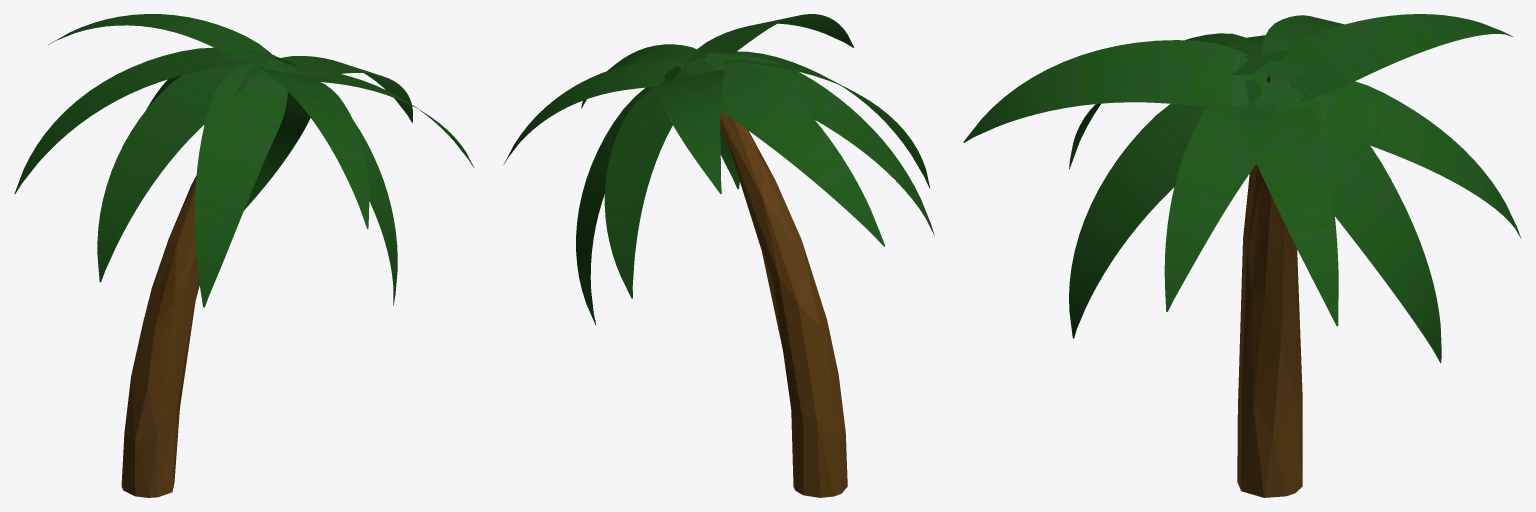
Rendered from palm v2.fbx.
3 renders of one model, left to right at view 1: azimuth 30°, elevation 25°; view 2: azimuth 150°, elevation 25°; view 3: azimuth 270°, elevation 25°, orthographic. The views are drawn at different scales.
Parts seen in each view (by area): view 1: Cylinder, Plane_7, Plane_8, Plane_9, Plane_6, Plane_10, Plane_2, Plane_5, Plane_3, Plane_4; view 2: Cylinder, Plane_9, Plane, Plane_8, Plane_10, Plane_2, Plane_3, Plane_6, Plane_7, Plane_4; view 3: Cylinder, Plane_6, Plane_2, Plane_5, Plane_3, Plane_4, Plane, Plane_10, Plane_9, Plane_7.
Part boxes in pixels (box(x1,y1,x2,y2)): Cylinder: box(121, 57, 273, 497); Plane_7: box(194, 58, 287, 307); Plane_8: box(97, 52, 269, 282); Plane_9: box(14, 47, 276, 193); Plane_6: box(258, 66, 369, 229); Plane_10: box(48, 14, 277, 60); Plane_2: box(244, 56, 310, 210); Plane_5: box(284, 66, 397, 305); Plane_3: box(281, 56, 412, 122); Plane_4: box(305, 74, 473, 167); Cylinder: box(697, 59, 847, 497); Plane_9: box(686, 57, 884, 246); Plane: box(604, 68, 687, 298); Plane_8: box(704, 53, 934, 235); Plane_10: box(657, 69, 724, 193); Plane_2: box(576, 66, 681, 324); Plane_3: box(503, 60, 684, 164); Plane_6: box(683, 14, 854, 69); Plane_7: box(703, 51, 930, 188); Plane_4: box(581, 44, 699, 108); Cylinder: box(1237, 73, 1302, 497); Plane_6: box(963, 40, 1274, 142); Plane_2: box(1273, 85, 1441, 362); Plane_5: box(1069, 79, 1262, 338); Plane_3: box(1238, 101, 1338, 326); Plane_4: box(1164, 100, 1256, 311); Plane: box(1268, 77, 1521, 238); Plane_10: box(1283, 14, 1512, 101); Plane_9: box(1261, 15, 1344, 80); Plane_7: box(1069, 33, 1266, 168).
Size of the model in its own units: 2479 by 2494 by 2522.
